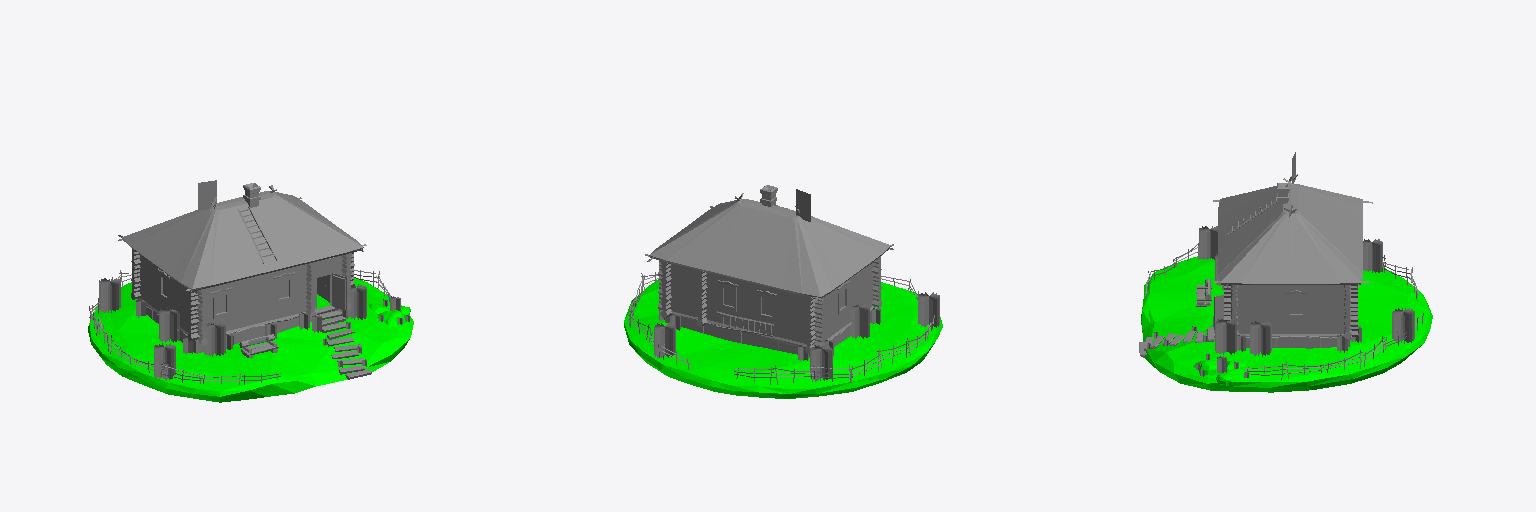
File: house.obj
3 views of the same model, side by side, from view 1: azimuth 30°, elevation 25°; view 2: azimuth 150°, elevation 25°; view 3: azimuth 270°, elevation 25° (orthographic).
Visible parts, largest first — view 1: hatka_local_; view 2: hatka_local_; view 3: hatka_local_.
Part boxes in pixels (x1,y1,x2,y2): hatka_local_: (88,180,413,402); hatka_local_: (624,185,942,398); hatka_local_: (1139,152,1432,392).
Size of the model in its own units: 75.95 by 33.65 by 69.72.